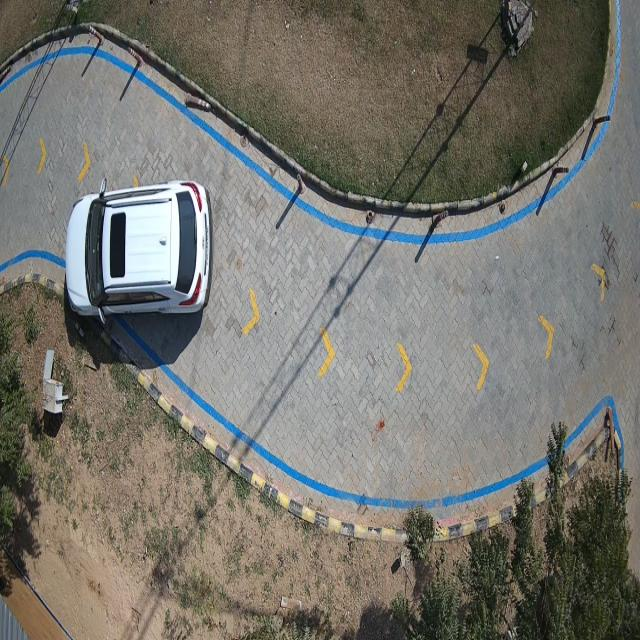car: (66, 180, 214, 320)
